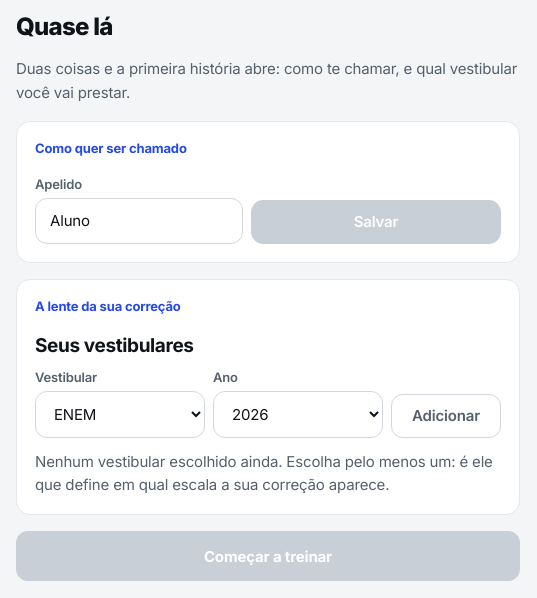
it: onboarding › o primeiro vestibular vira a lente ativa
Select "ENEM" in the dropdown labelled "Vestibular": (120, 414) left=35, top=391, right=205, bottom=438
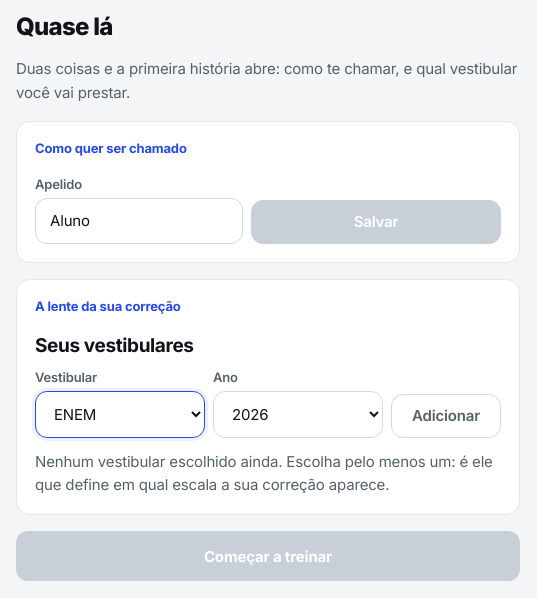
Select "2027" in the dropdown labelled "Ano": (298, 414) left=213, top=391, right=383, bottom=438
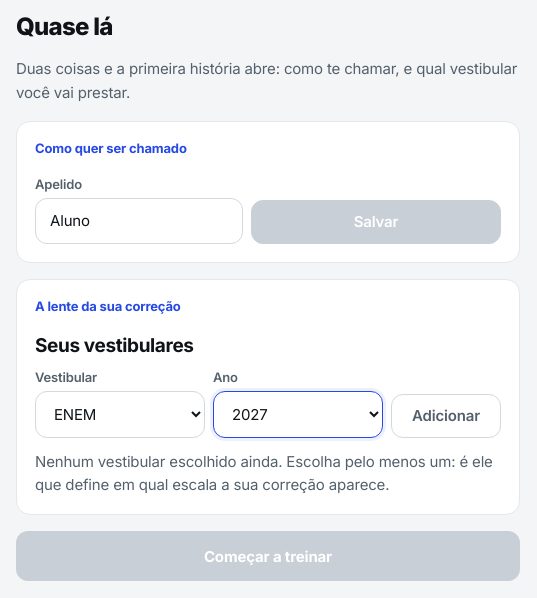
Click the button "Adicionar": (446, 416) left=391, top=394, right=501, bottom=438
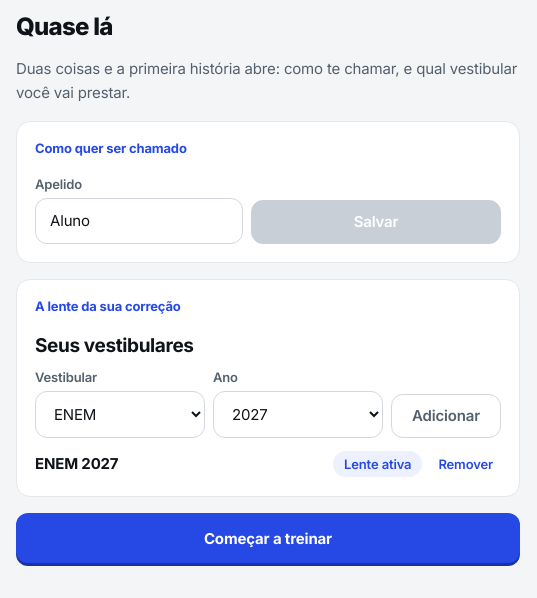
Expected: the list item shows "ENEM 2027", left=35, top=454, right=118, bottom=474
Expected: the text "Lente ativa" is shown, left=333, top=451, right=422, bottom=477
